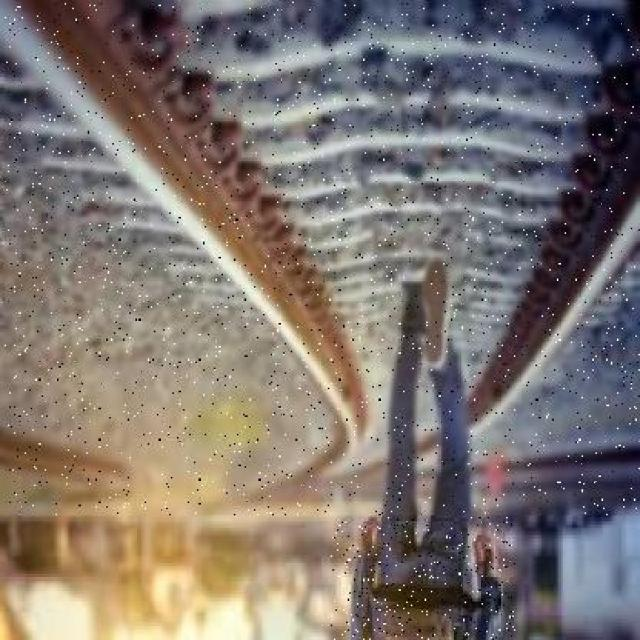danger: (331, 254, 514, 640)
rail: (5, 2, 639, 515)
